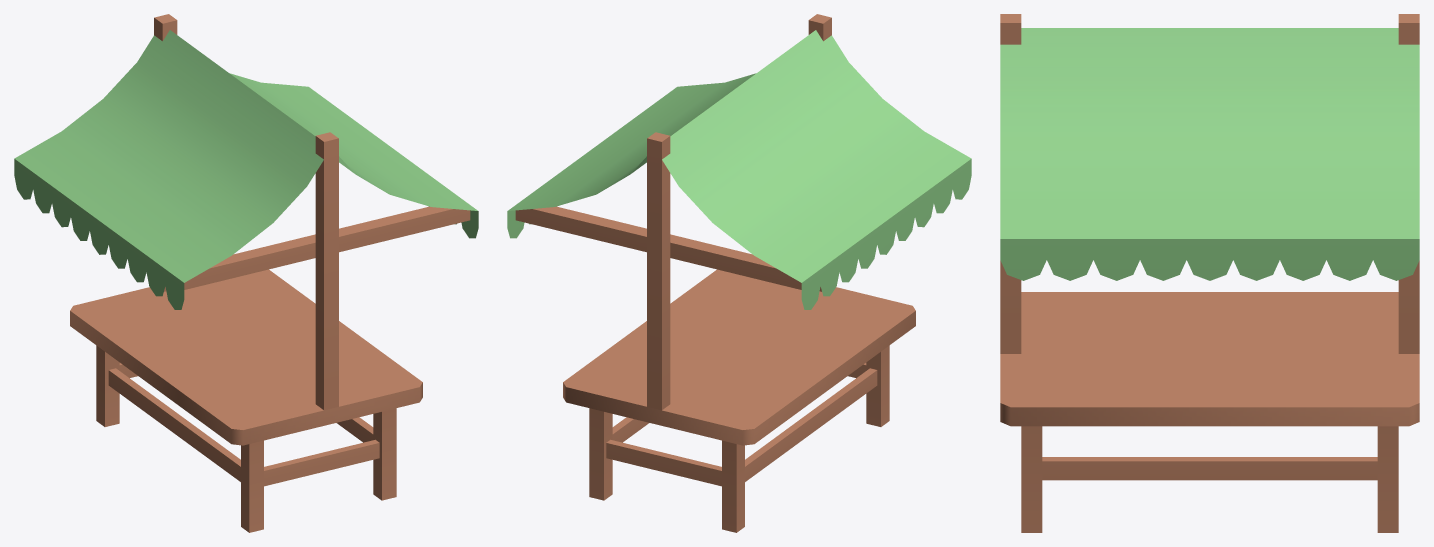
Rendered from stall.glb.
3 renders of one model, left to right at view 1: azimuth 30°, elevation 25°; view 2: azimuth 150°, elevation 25°; view 3: azimuth 270°, elevation 25°, orthographic. The views are drawn at different scales.
Parts seen in each view (by area): view 1: stall-green; view 2: stall-green; view 3: stall-green.
Part boxes in pixels (x1,y1,x2,y2): stall-green: [14, 14, 478, 532]; stall-green: [507, 14, 971, 532]; stall-green: [1000, 14, 1419, 532].
Size of the model in its own units: 1 by 1.24 by 1.
Materials: 1 (1 with a texture image).
